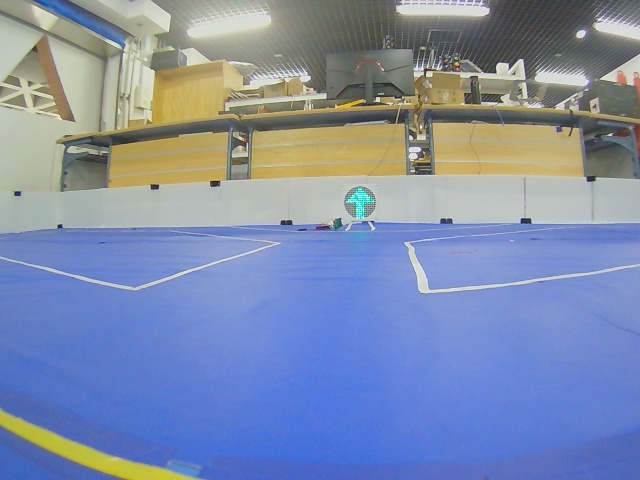straight_green: (344, 186, 376, 219)
